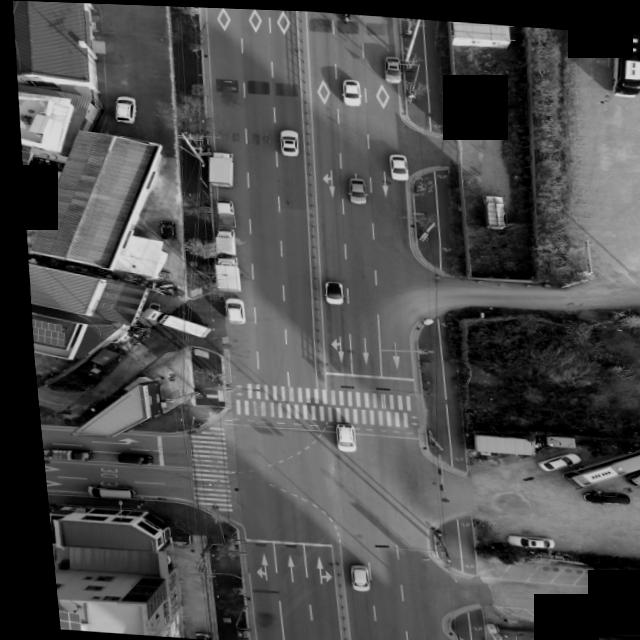car: (530, 447, 574, 468), (567, 484, 617, 501), (110, 95, 136, 123), (612, 460, 640, 485), (326, 420, 349, 450), (77, 485, 124, 499), (337, 561, 360, 589), (276, 128, 299, 155), (337, 76, 360, 103), (497, 533, 544, 546), (148, 218, 173, 242), (217, 298, 240, 324), (343, 175, 364, 203), (383, 151, 406, 176), (379, 54, 400, 81), (315, 279, 338, 302), (104, 453, 143, 465)
large_bus: (549, 435, 640, 491), (599, 27, 640, 94)
medium_truck: (131, 307, 208, 338), (473, 72, 510, 120), (202, 150, 234, 189), (205, 253, 235, 291)
small_truck: (474, 190, 504, 228), (207, 226, 236, 255), (210, 196, 236, 227), (34, 446, 82, 461)
